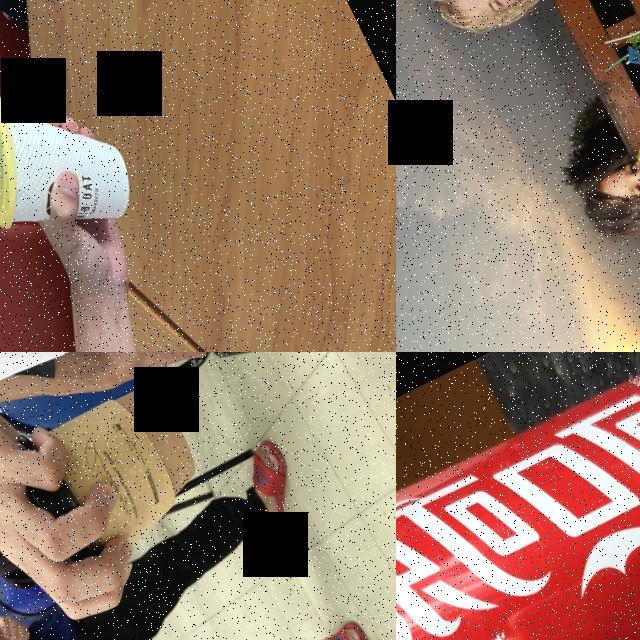can: (396, 352, 640, 640), (617, 91, 640, 175)
cup: (0, 362, 226, 585), (0, 50, 146, 270)
